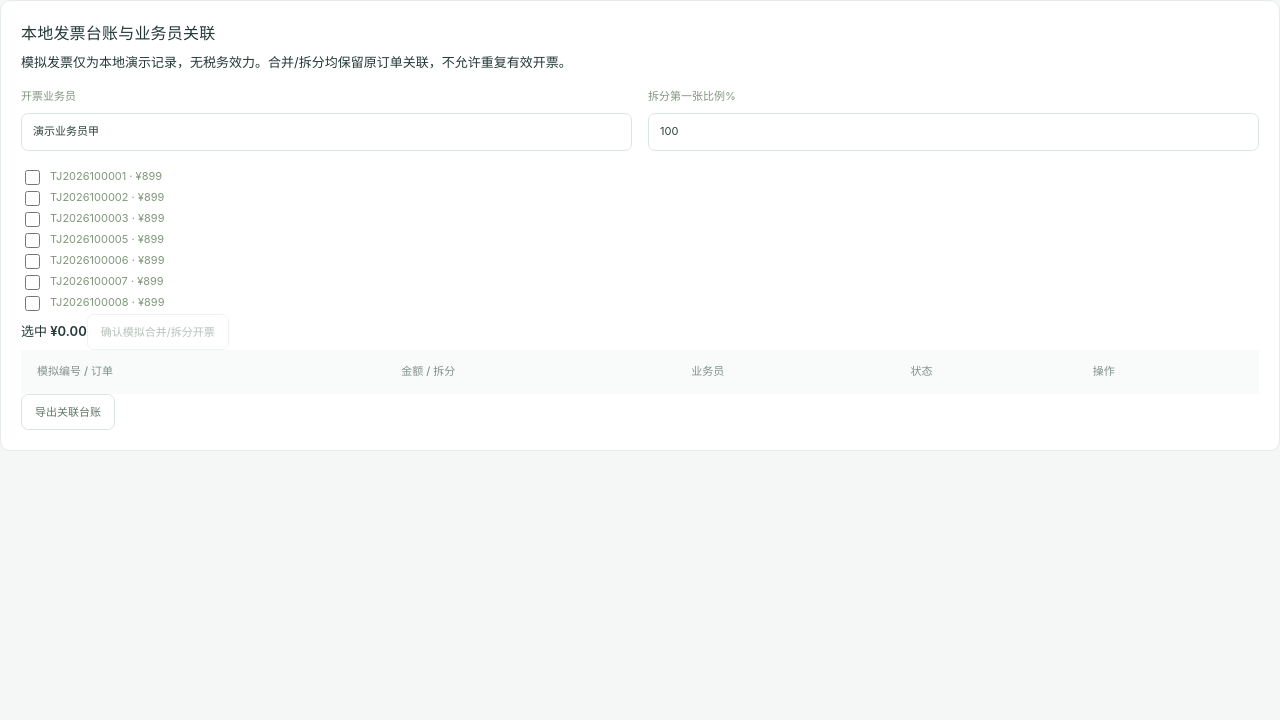
it: atomic ordering and clinical details › O12 invoice split preserves transaction total and prevents duplicate active invoicing until voided
The width and height of the screenshot is (1280, 720).
Click the checkbox labelled "TJ2026100001 · ¥899" at (32, 177), box [25, 170, 40, 185]
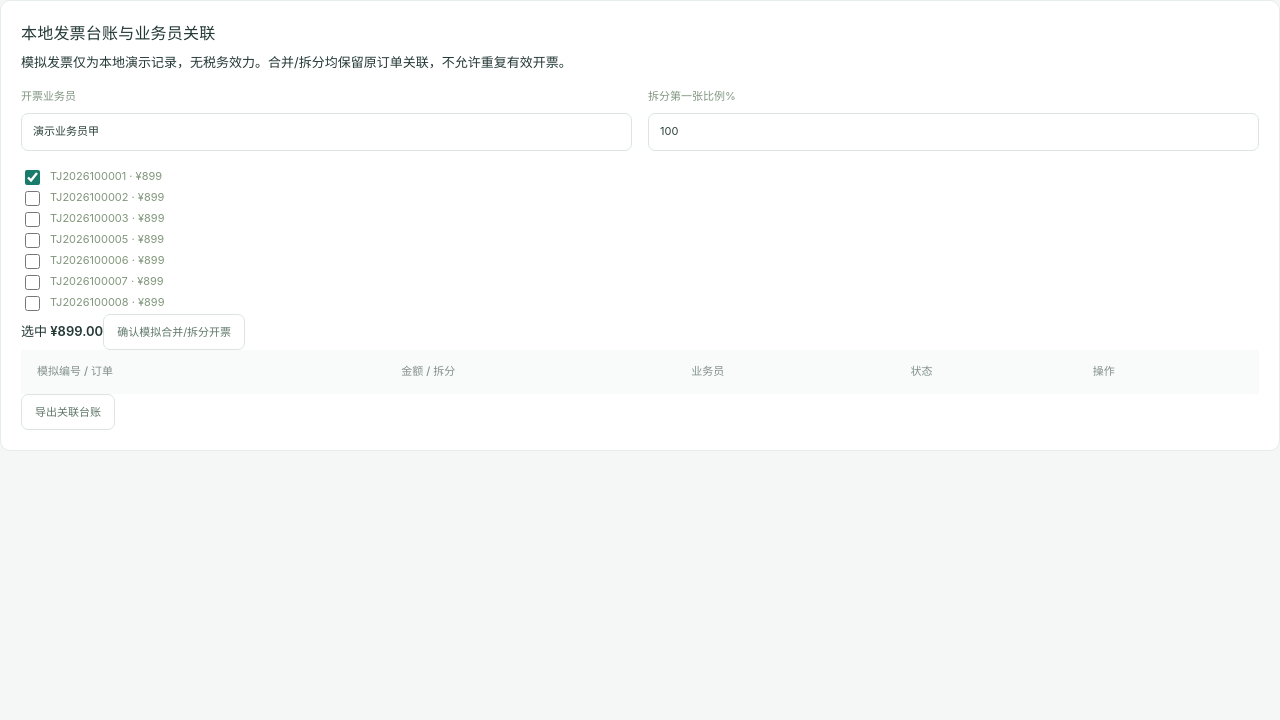
Replace the text in the number field labelled "拆分第一张比例%" with "40" at (954, 132), box [648, 113, 1259, 151]
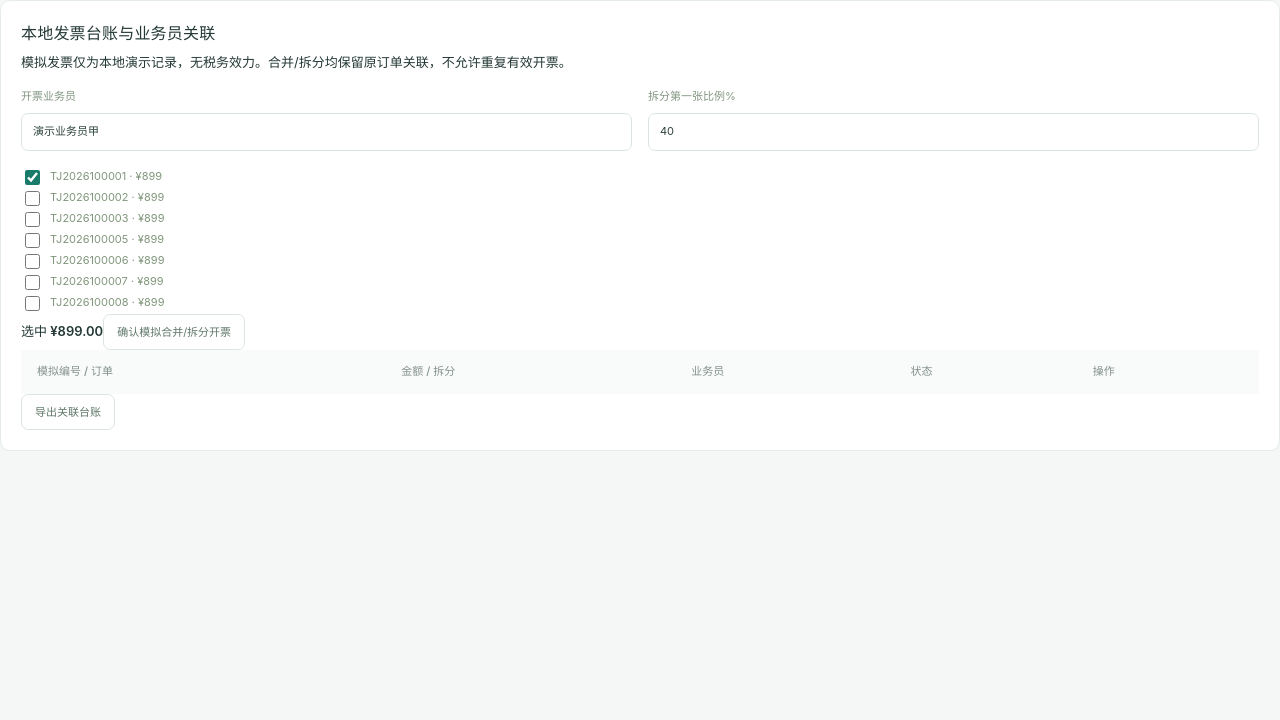
Click the button "确认模拟合并/拆分开票" at (174, 332), box [103, 314, 245, 350]
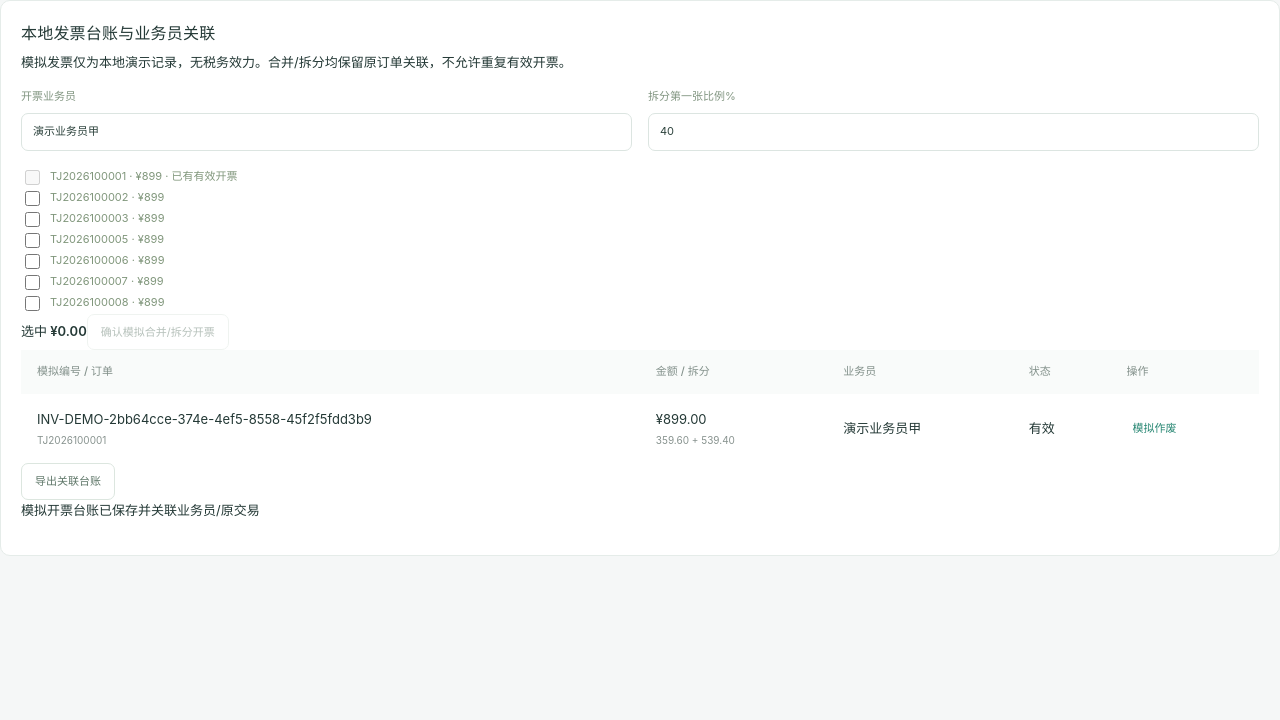
Expected: the checkbox labelled "TJ2026100001 · ¥899 · 已有有效开票" is disabled, [25, 170, 40, 185]
Click the button "模拟作废" at (1154, 429), box [1126, 417, 1182, 440]
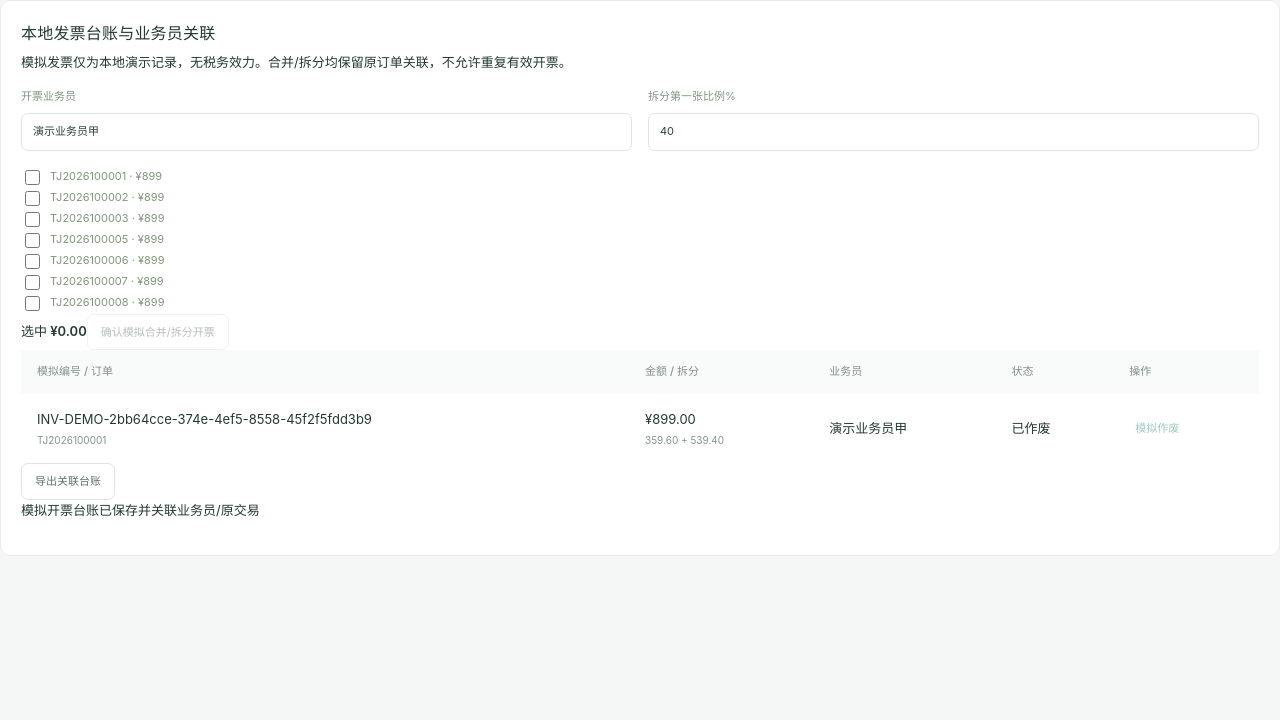
Expected: the checkbox labelled "TJ2026100001 · ¥899" is enabled, [25, 170, 40, 185]
